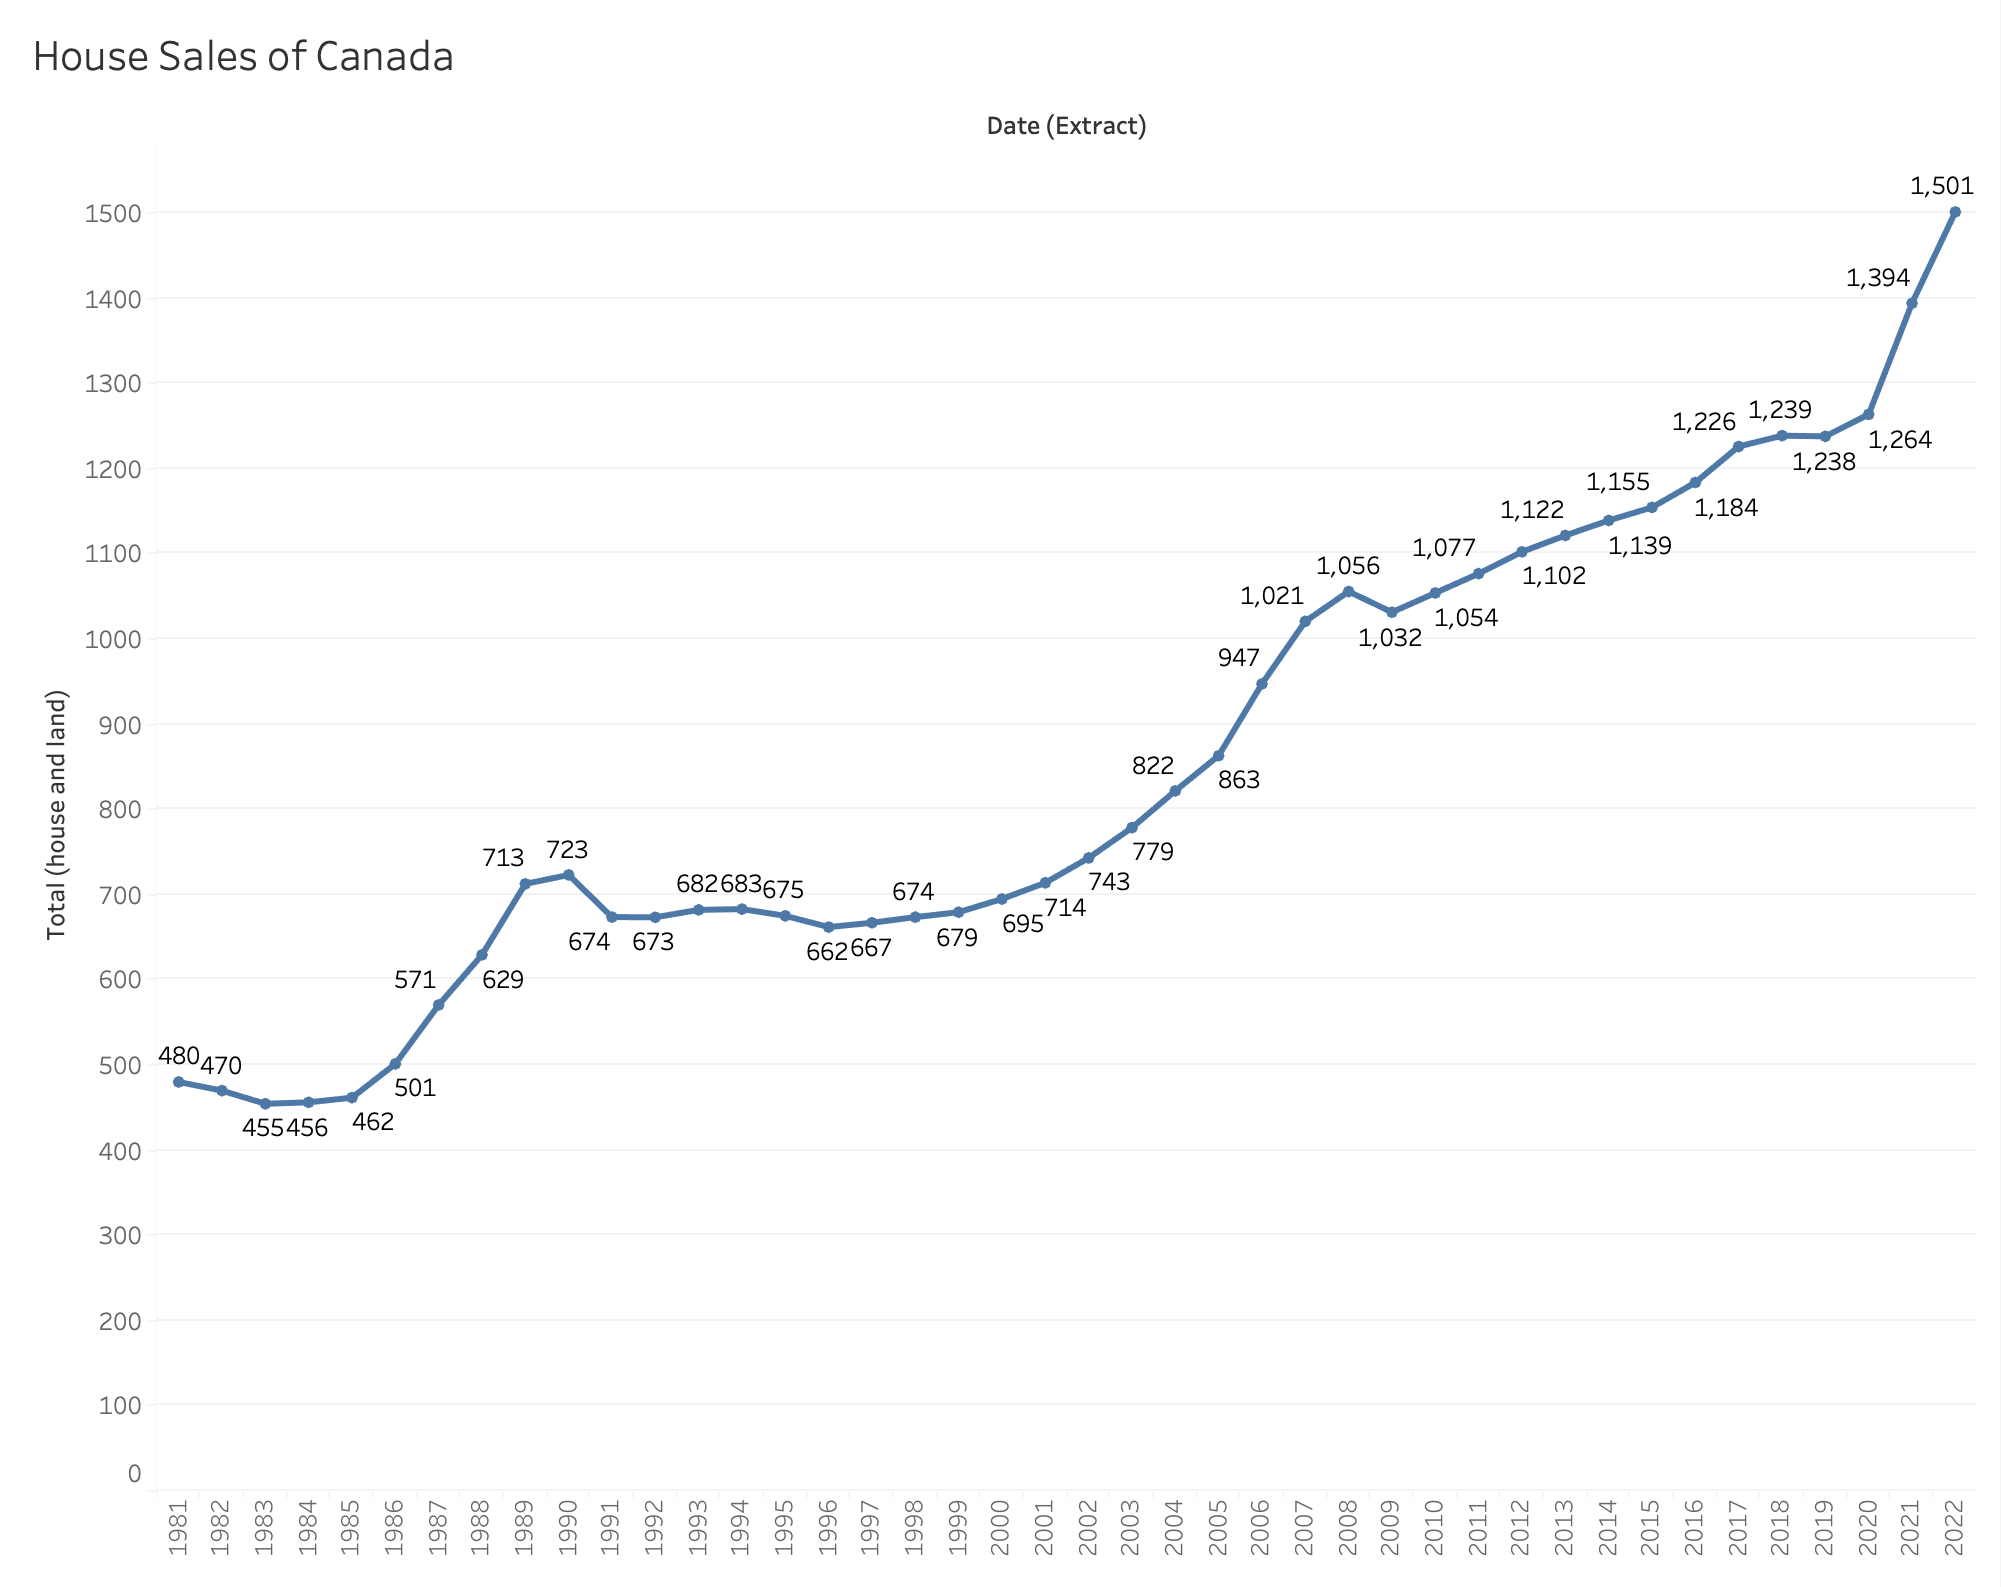

This screenshot's page, from the dashboard's own definition file:
{"tool":"tableau","page":{"name":"Dashboard 1","canvas":[1000,800],"ordinal":0},"visuals":[{"type":"worksheet","title":"Sheet 1","mark":"Automatic","rows":["Total (house and land)"],"cols":["Date (Extract)"],"box":[8,8,984,784]}]}

Visuals, with their boxes in screenshot pixels (x1, y1, x2, y2), scaled from the page's 1000x800 canvas onto the 2001x1587 screenshot:
"Sheet 1" worksheet: x1=16 y1=16 x2=1985 y2=1571
